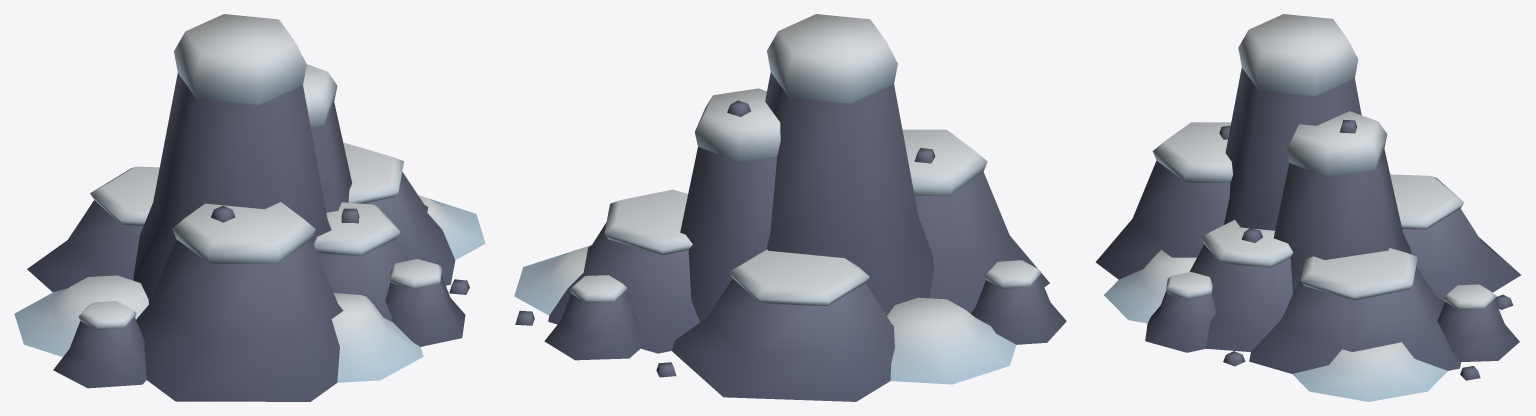
Rendered from rocks-large.glb.
The picture shows the model from 3 angles, left to right: view 1: azimuth 30°, elevation 25°; view 2: azimuth 150°, elevation 25°; view 3: azimuth 270°, elevation 25°; orthographic projection. The views are drawn at different scales.
Parts seen in each view (by area): view 1: rocks-large; view 2: rocks-large; view 3: rocks-large.
Part boxes in pixels (x1=…): rocks-large: x1=14, y1=14, x2=485, y2=401; rocks-large: x1=514, y1=14, x2=1066, y2=401; rocks-large: x1=1095, y1=14, x2=1521, y2=401.
Bounding box in the file's own units: 3.14 × 1.71 × 2.69.
